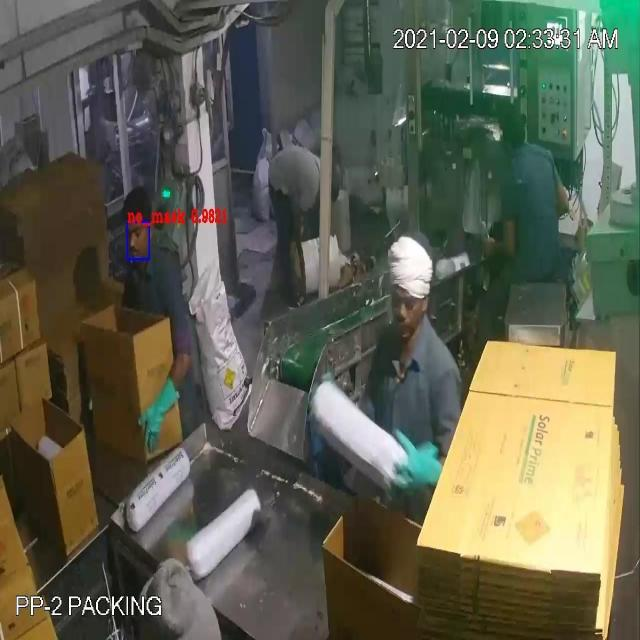Gloves: (32, 63, 500, 470)
